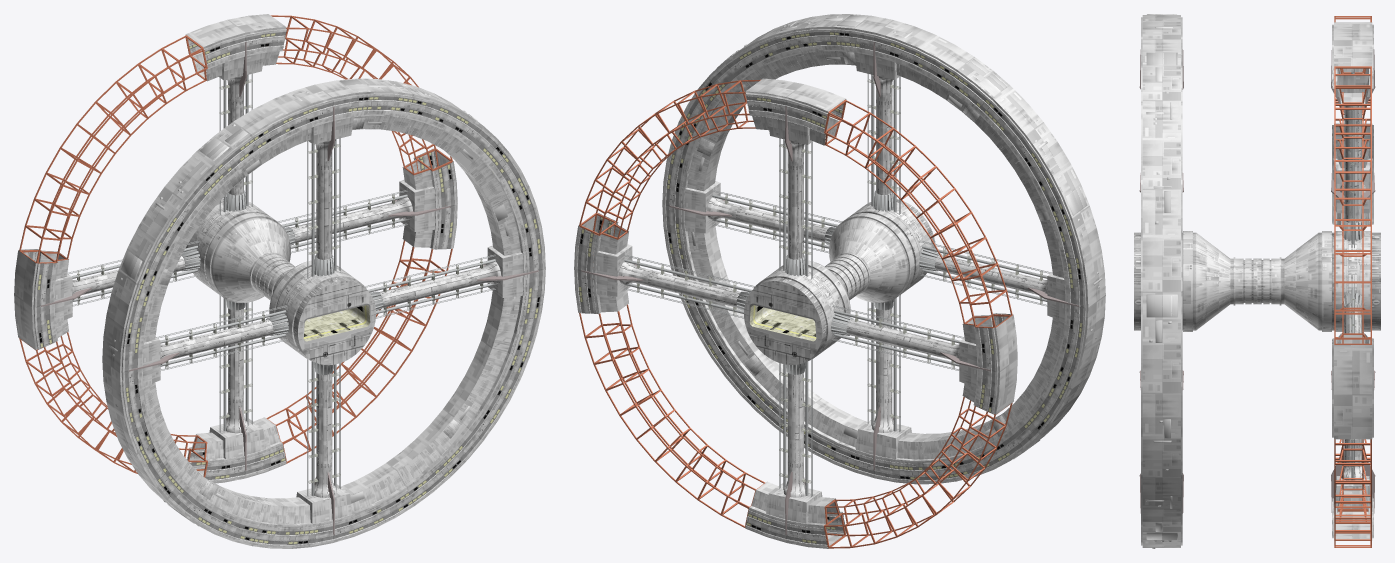
The model's file is station2.glb.
3 renders of one model, left to right at view 1: azimuth 30°, elevation 25°; view 2: azimuth 150°, elevation 25°; view 3: azimuth 270°, elevation 25°, orthographic. The views are drawn at different scales.
Parts seen in each view (by area): view 1: Wheel01, Mesh01_Material #26_0, Wheel_Gird, Cables01, Hub, Wheel02, Spoke03, Spoke02, Bay_Face_0, Spoke01, Spoke04, Blocks02 (+10 smaller); view 2: Wheel01, Mesh02_Material #26_0, Wheel_Gird, Cables01, Hub, Wheel02, Spoke03, Bay_Face_1, Spoke02, Spoke01, Spoke04, Blocks02 (+10 smaller); view 3: Wheel01, Hub, Wheel02, Wheel_Gird, Spoke01, Spoke_Supp, Cables01, Blocks04, Blocks01, Spoke03, Blocks03, Spoke02.
Part boxes in pixels (x1,y1,x2,y2): Wheel01: [102, 78, 545, 548]; Mesh01_Material #26_0: [122, 94, 544, 547]; Wheel_Gird: [19, 15, 452, 477]; Cables01: [67, 73, 495, 496]; Hub: [186, 199, 366, 361]; Wheel02: [14, 14, 457, 483]; Spoke03: [226, 302, 336, 497]; Spoke02: [288, 197, 501, 307]; Bay_Face_0: [298, 281, 375, 365]; Spoke01: [227, 75, 335, 274]; Spoke04: [72, 256, 287, 364]; Blocks02: [399, 179, 523, 297]; Wheel01: [662, 14, 1105, 484]; Mesh02_Material #26_0: [663, 29, 1085, 482]; Wheel_Gird: [579, 79, 1012, 548]; Cables01: [624, 74, 1051, 496]; Hub: [753, 199, 935, 361]; Wheel02: [574, 78, 1017, 548]; Spoke03: [783, 302, 893, 497]; Bay_Face_1: [744, 281, 822, 364]; Spoke02: [619, 197, 831, 307]; Spoke01: [784, 75, 892, 274]; Spoke04: [832, 254, 1047, 364]; Blocks02: [596, 181, 720, 296]; Wheel01: [1141, 14, 1182, 548]; Hub: [1134, 231, 1380, 331]; Wheel02: [1332, 22, 1373, 540]; Wheel_Gird: [1334, 16, 1371, 547]; Spoke01: [1344, 106, 1361, 239]; Spoke_Supp: [1139, 49, 1375, 513]; Cables01: [1342, 69, 1364, 480]; Blocks04: [1333, 158, 1372, 213]; Blocks01: [1335, 68, 1372, 96]; Spoke03: [1340, 439, 1365, 480]; Blocks03: [1333, 476, 1372, 508]; Spoke02: [1344, 295, 1361, 333].
Size of the model in its own units: 24.89 by 24.93 by 11.51.
Materials: 12 (8 with a texture image).
